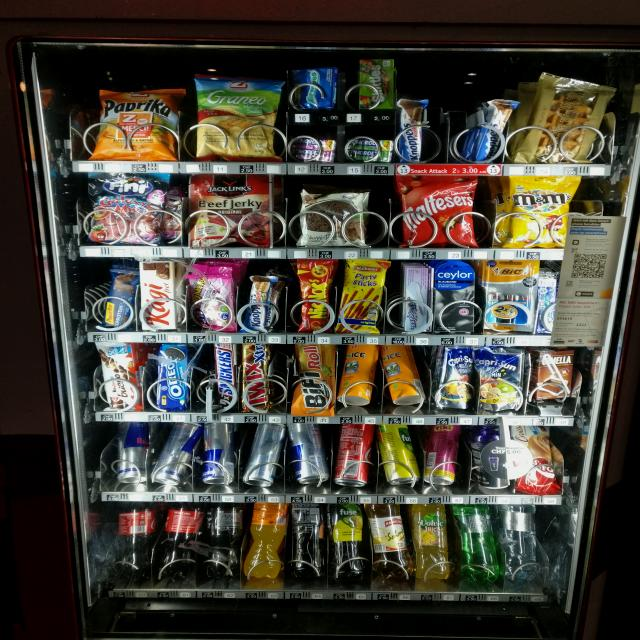7days_croissantschoko_packung_80_1_0000000000003: (518, 423, 552, 492)
airwaves_menthoneucalyptus_riegel_14_1_50173167: (294, 66, 342, 112)
bifi_roll__50__4251097402635: (290, 342, 335, 418)
bueno___43__4008400320328: (95, 342, 146, 410)
c-swiss_dosenabisicetea__33__9120025930135: (377, 343, 428, 405), (340, 343, 378, 402)
caferoyal_classicmacchiato__33__7617014164487: (467, 425, 515, 489)
caprisun_multivitamin__20__4000177605004: (477, 347, 528, 412), (438, 345, 474, 412)
coke__dose_33__54491472: (336, 423, 378, 487)
coke__flasche_50__54491472: (113, 499, 160, 583), (164, 502, 207, 578), (205, 502, 248, 576)
comella_schokodrink__33__7613100037253: (530, 346, 576, 404)
fanta___50__40822938: (247, 499, 284, 582)
fini_galaxymix_packung_100_1_8410525150364: (83, 169, 168, 240)
fini_jellykisses_packung_80_1_8410525116704: (185, 262, 238, 330)
fuse_lemon__50__5449000235947: (329, 501, 368, 578)
fuse_lemon_dose_33__5449000235947: (379, 422, 425, 483)
fuse_peach__50__5449000236623: (289, 502, 330, 585)
jacklinks_beefjerkyorginal__25__4047751730219: (186, 172, 278, 250)
jlbrichard_gauffre__90__5410495002000: (520, 69, 606, 160)
kagi___50__7610046000259: (137, 260, 178, 328)
knoppers_riegel____4035800488808: (389, 88, 429, 165), (472, 95, 515, 162), (242, 274, 277, 332)
lorenz_nicnacs__40__4018077798818: (292, 256, 342, 334)
malburner_partysticks__40__7610200279682: (343, 254, 384, 332)
maltesers___100__5000159023061: (394, 174, 480, 246)
mnms_gelb__45__40111445: (509, 175, 577, 245)
oreo___66__84100733: (154, 339, 195, 408)
powerbar_proteinplusschoko__55__4029679520028: (104, 265, 138, 329)
ramseier_schorle__50__7610057012456: (367, 502, 414, 575)
redbull___33__90162909: (152, 421, 200, 484), (244, 422, 290, 486), (288, 424, 331, 486), (199, 421, 240, 486), (111, 419, 148, 484)
skittles_sour_riegel_51_1_0000000000004: (357, 57, 397, 108)
snickers___50__5000159461122: (208, 343, 240, 412)
stimorol_spearmint_riegel_14_1_0000000000005: (345, 136, 395, 162)
stimorol_wildcherry_riegel_14_1_57060330: (291, 133, 335, 162)
tiki_himbeer_brause__50__00000000009342: (426, 423, 464, 491)
twix___50__5000159459228: (238, 342, 276, 412)
valser_classic__50__76404160: (451, 504, 504, 584)
valser_still__50__7610335002575: (495, 503, 542, 582)
volvic_pinapple__50__305764335648: (407, 503, 455, 580)
zweifel_graneochilli__100__7610095184009: (192, 73, 284, 159)
zweifel_paprika__90__7610095013002: (88, 83, 177, 160)
